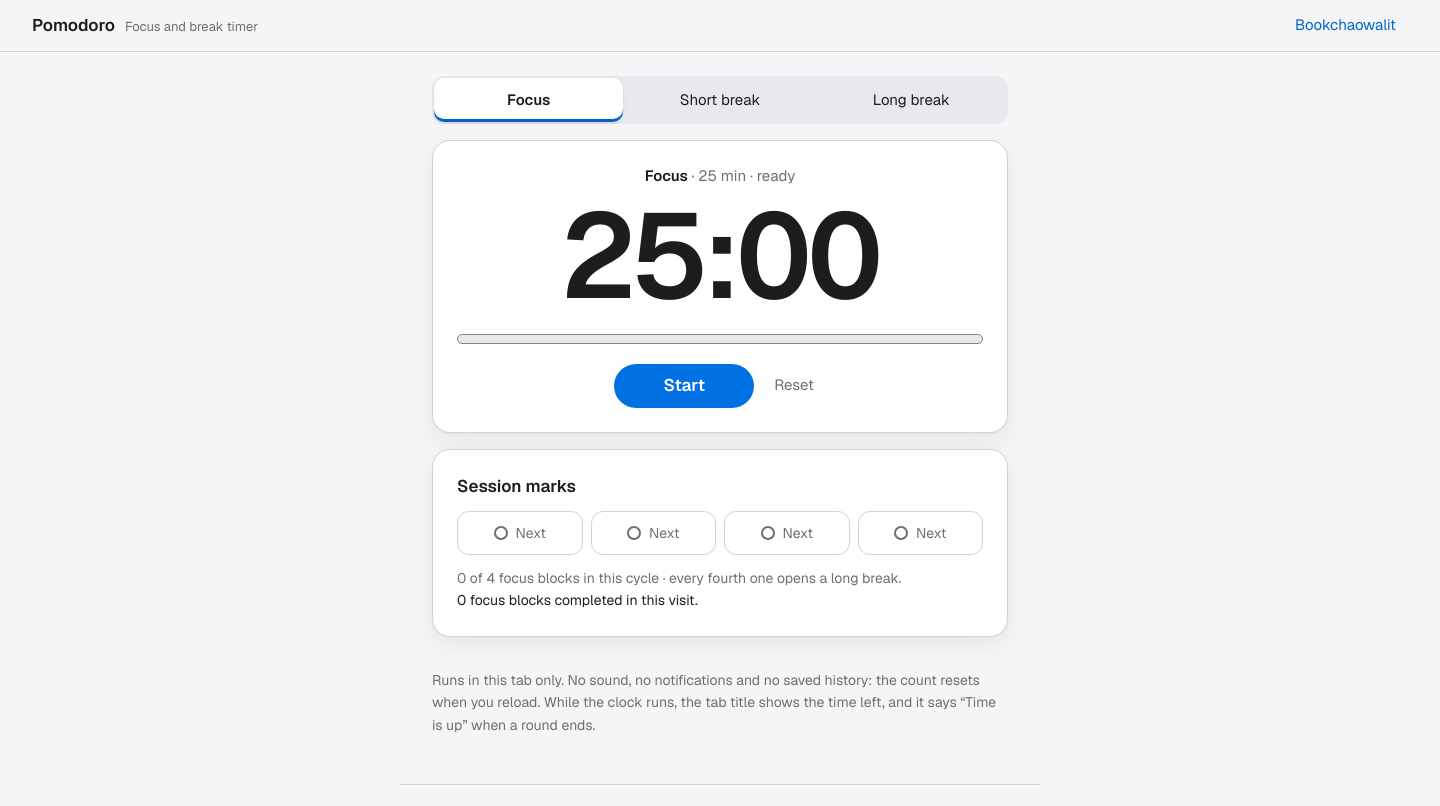
Test: clock changes and late pauses › Pause after time ran out but before a tick ends and counts the round
This screenshot has width=1440, height=806.
Step 1. Click the button "Start" → {"x": 684, "y": 386}, box [614,364,754,408]
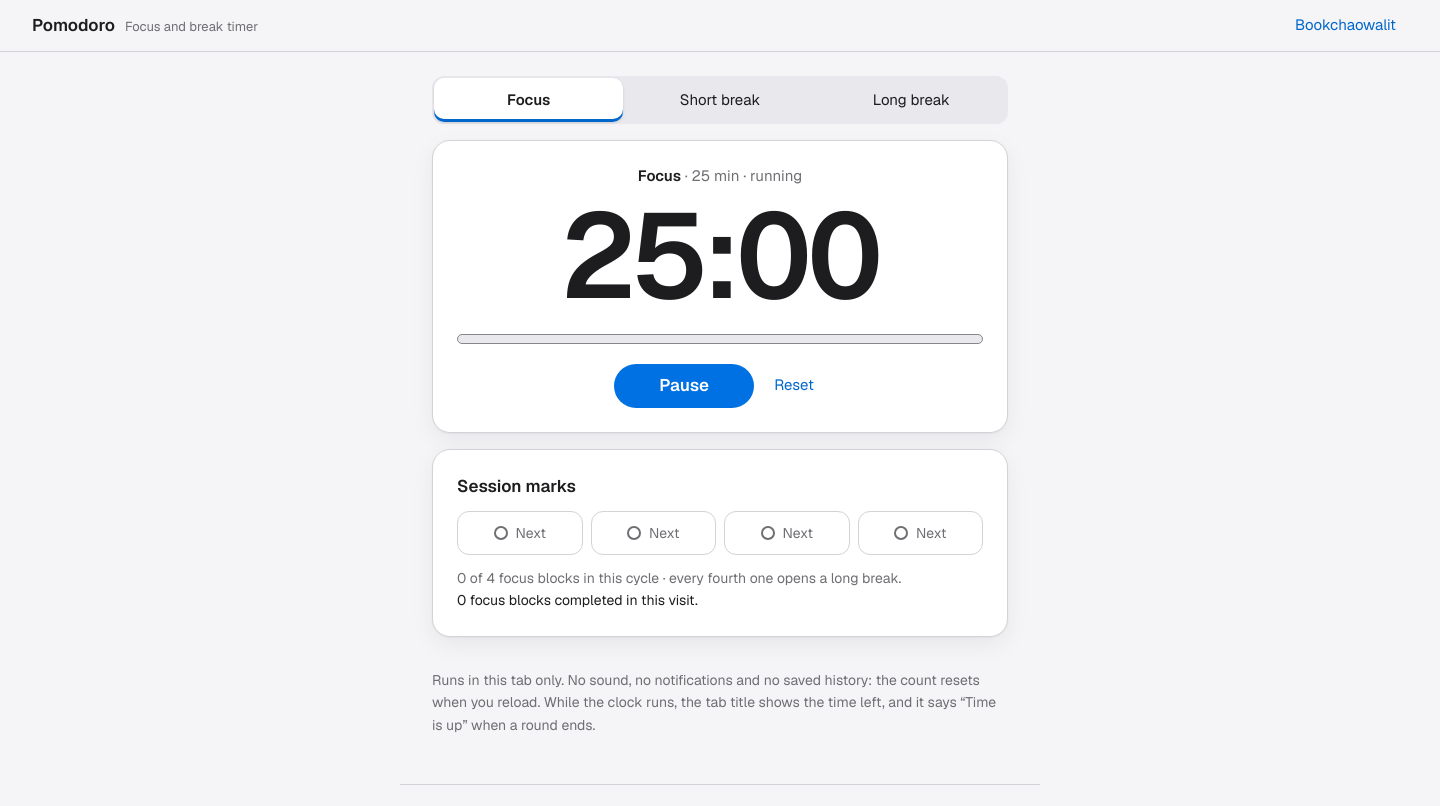
Step 2. Click the button "Pause" → {"x": 684, "y": 386}, box [614,364,754,408]
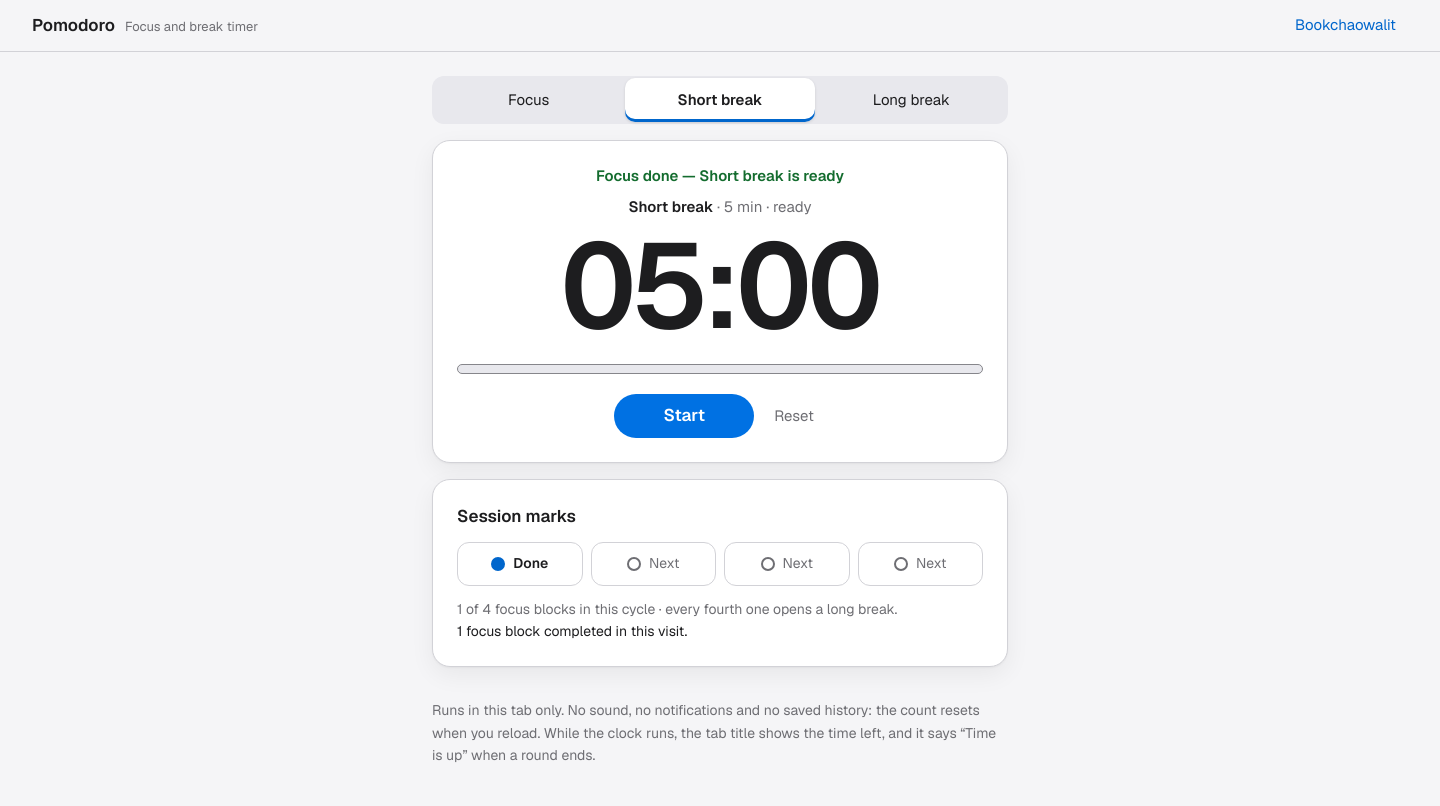
Check: the button "Start" is shown, box [614,394,754,438]
Check: the text "1 focus block completed in this visit." is shown, box [457,622,687,640]
